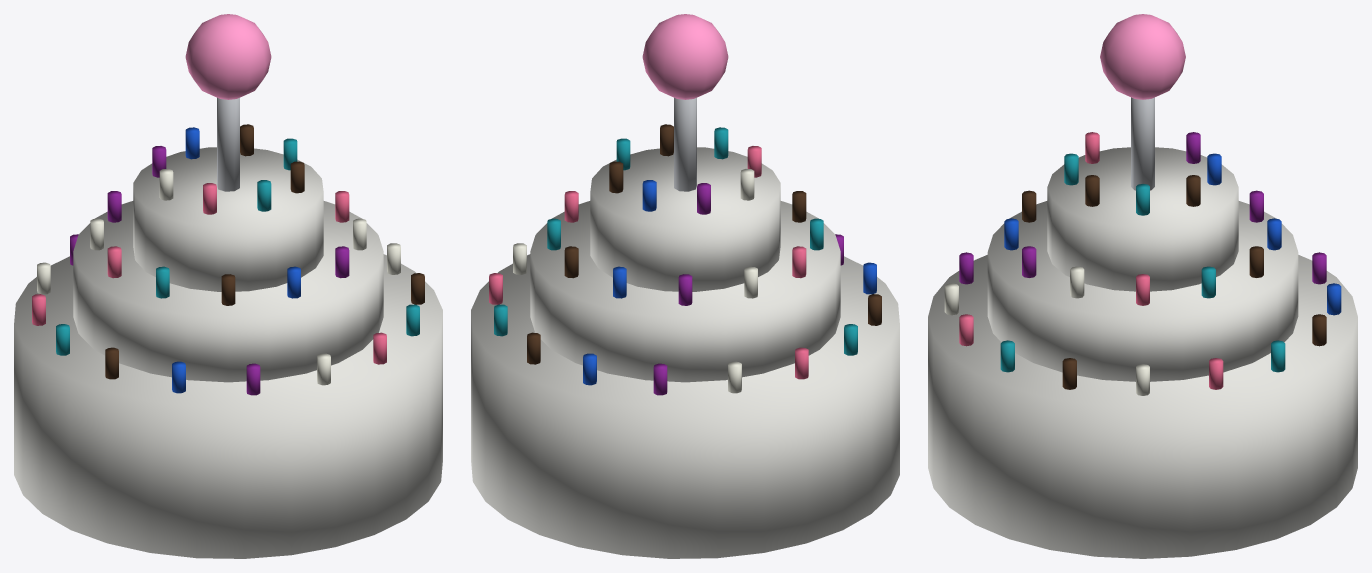
The model's file is cosmetics_island.glb.
3 views of the same model, side by side, from view 1: azimuth 30°, elevation 25°; view 2: azimuth 150°, elevation 25°; view 3: azimuth 270°, elevation 25° (orthographic).
Visible parts, largest first — view 1: cosmetics_island; view 2: cosmetics_island; view 3: cosmetics_island.
Boxes of the visible parts, x1=… form: cosmetics_island: x1=14, y1=14, x2=442, y2=558; cosmetics_island: x1=471, y1=14, x2=899, y2=558; cosmetics_island: x1=928, y1=14, x2=1357, y2=558.
Size of the model in its own units: 1.8 by 2.08 by 1.8.
1 material, 1 textured.
